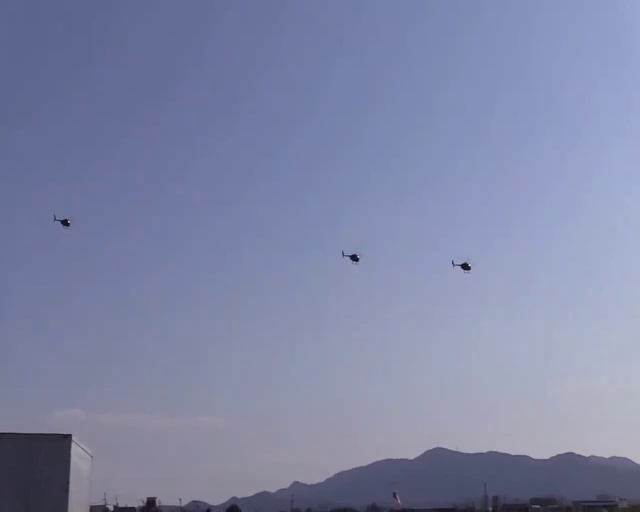HELICOPTER: (52, 214, 70, 228)
